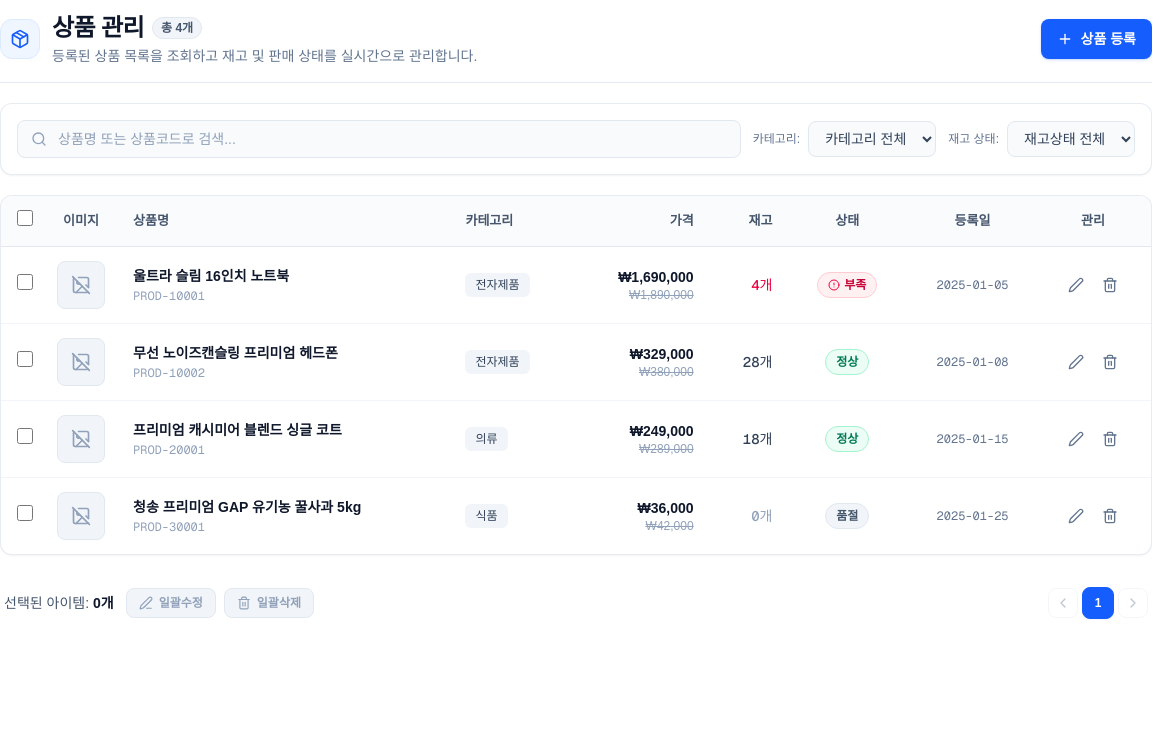
ProductView Component (Integration/Presentation Test) › 일괄 수정 버튼 클릭 시 선택된 상품들의 재고가 증가(+10개)한다
첫 번째 상품 개별 선택
Click the checkbox named "울트라 슬림 16인치 노트북 선택" at {"x": 25, "y": 282}, box [17,274,33,290]
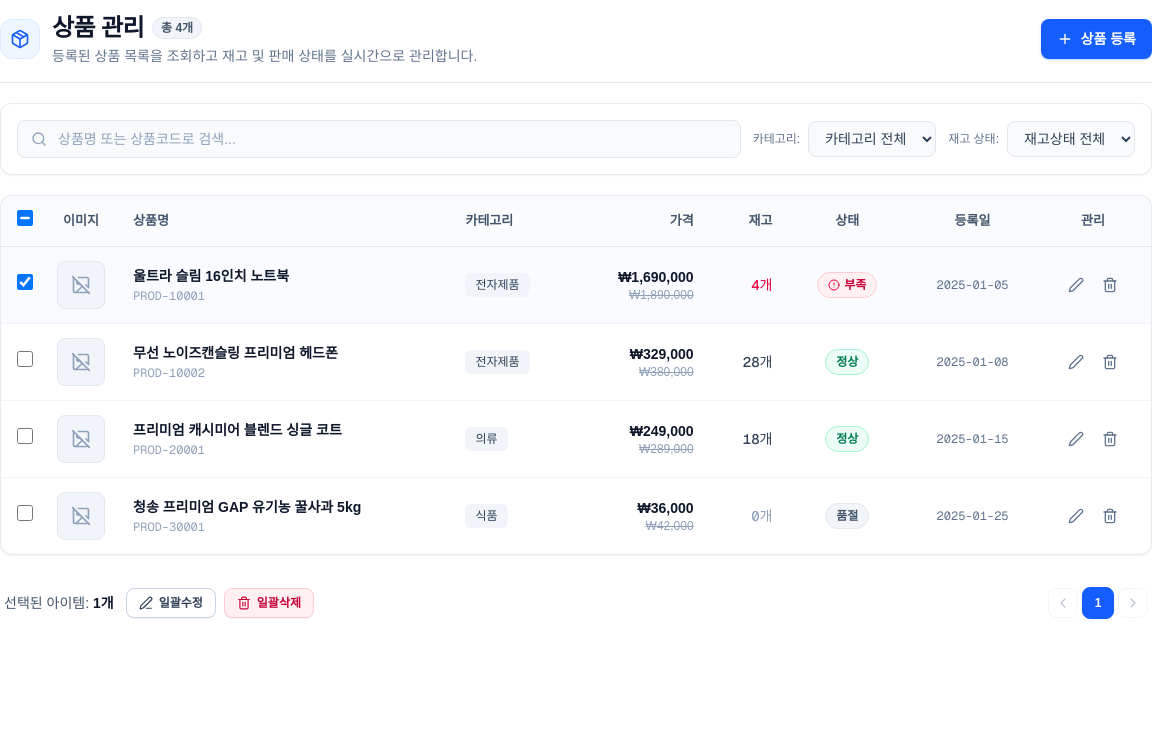
Expected: the text "선택된 아이템: 1개" is shown, [4,592,114,612]
Expected: the button "일괄수정" is enabled
Click the button "일괄수정" at {"x": 171, "y": 602}, box [126,588,216,618]
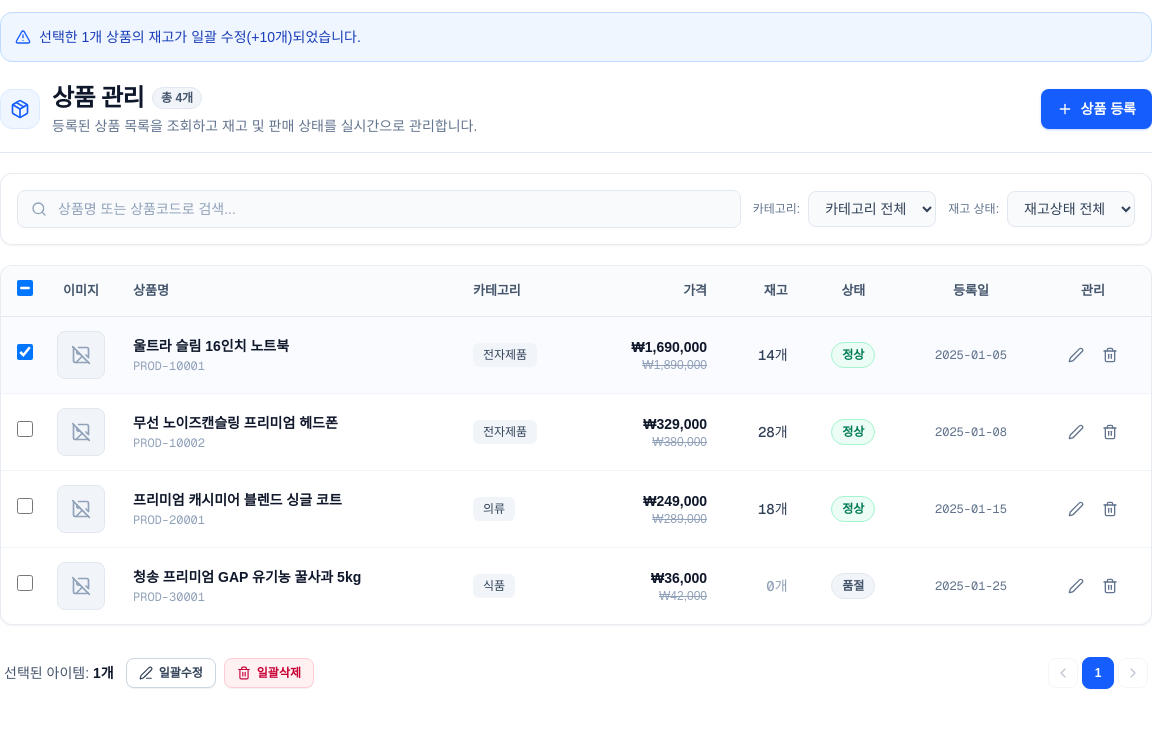
Expected: the text "14개" is shown, [758,346,788,364]
